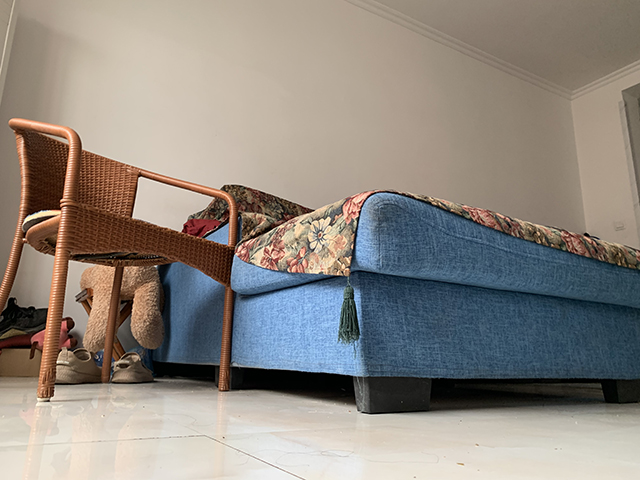sofa: (139, 182, 640, 416)
stool: (3, 118, 239, 403)
